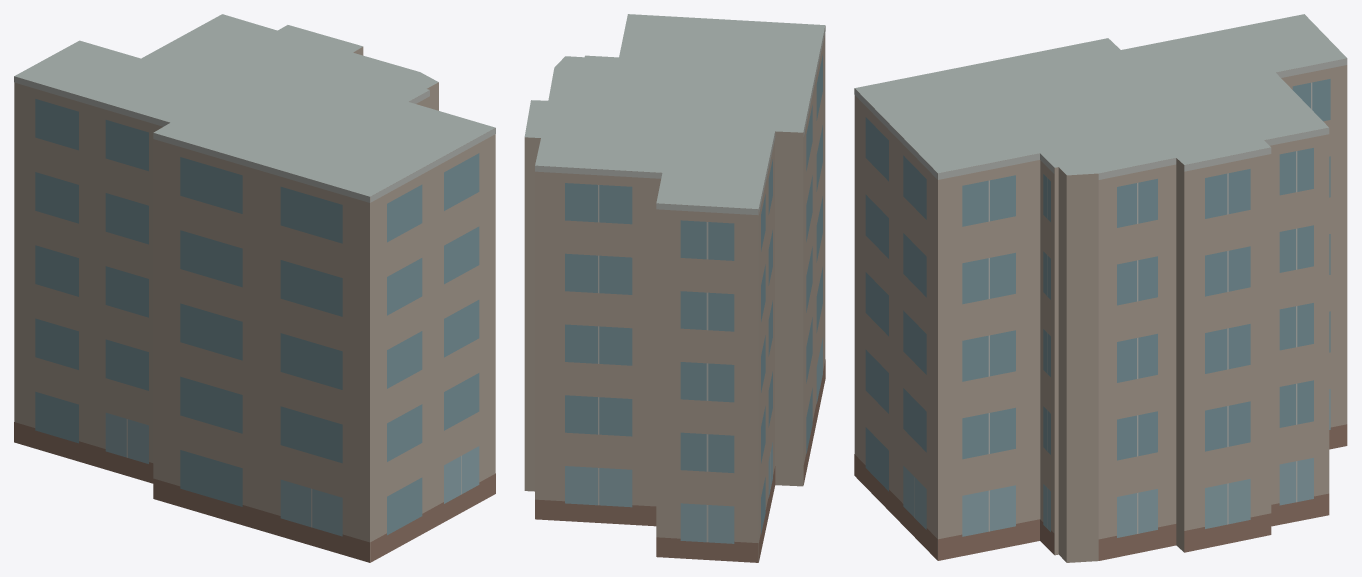
The model's file is survey-upis-32679768.glb.
3 views of the same model, side by side, from view 1: azimuth 30°, elevation 25°; view 2: azimuth 150°, elevation 25°; view 3: azimuth 270°, elevation 25° (orthographic). The views are drawn at different scales.
Parts seen in each view (by area): view 1: survey-upis-32679768.tmp; view 2: survey-upis-32679768.tmp; view 3: survey-upis-32679768.tmp.
Part boxes in pixels (left/top/right/bottom): survey-upis-32679768.tmp: left=14, top=14, right=495, bottom=562; survey-upis-32679768.tmp: left=524, top=14, right=825, bottom=562; survey-upis-32679768.tmp: left=854, top=14, right=1347, bottom=562.
Size of the model in its own units: 12.77 by 14.3 by 16.49.
